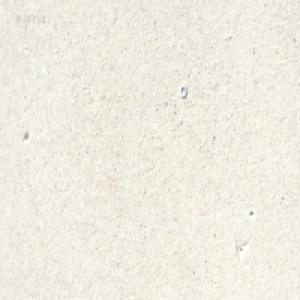Washer: (179, 84, 186, 98)
